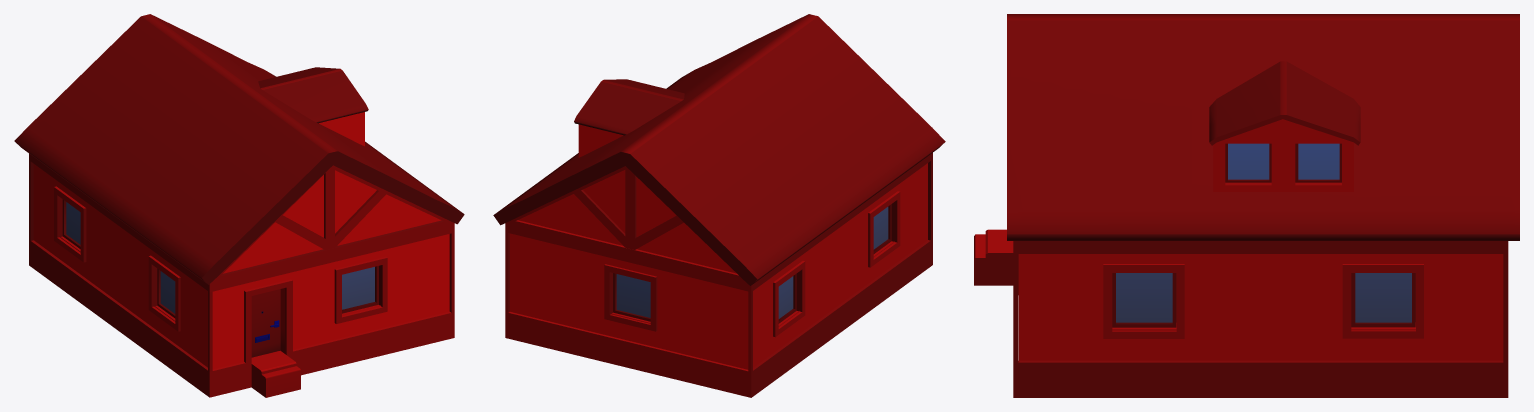
The model's file is buildings-residential-familyhome_v4.fbx.
3 views of the same model, side by side, from view 1: azimuth 30°, elevation 25°; view 2: azimuth 150°, elevation 25°; view 3: azimuth 270°, elevation 25° (orthographic). The views are drawn at different scales.
Visible parts, largest first — view 1: FamilyHome_v4_base, FamilyHome_v4_windowRefl; view 2: FamilyHome_v4_base, FamilyHome_v4_windowRefl; view 3: FamilyHome_v4_base, FamilyHome_v4_windowRefl.
Boxes of the visible parts, x1,y1,x2,y2 form: FamilyHome_v4_base: [14, 14, 464, 397]; FamilyHome_v4_windowRefl: [66, 202, 374, 313]; FamilyHome_v4_base: [493, 14, 945, 397]; FamilyHome_v4_windowRefl: [616, 207, 888, 318]; FamilyHome_v4_base: [974, 14, 1519, 397]; FamilyHome_v4_windowRefl: [1116, 143, 1411, 322].
Size of the model in its own units: 9.62 by 7.6 by 12.62.
